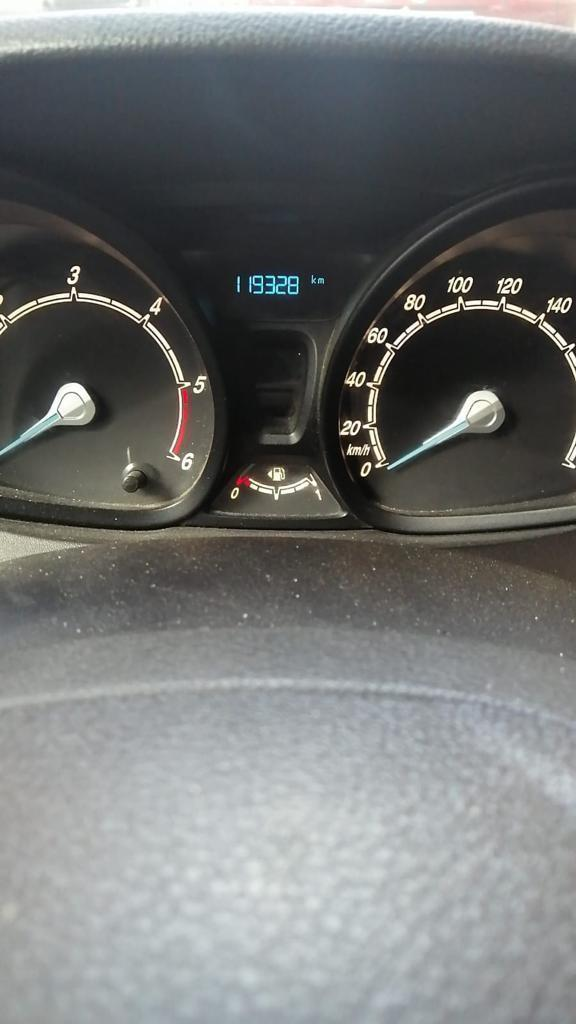1: (232, 273, 243, 294), (243, 274, 251, 293)
2: (276, 274, 287, 296)
3: (264, 274, 275, 295)
8: (287, 274, 299, 295)
9: (251, 273, 264, 295)
X: (309, 273, 317, 285), (317, 276, 325, 285)
odometer: (182, 252, 356, 323)
